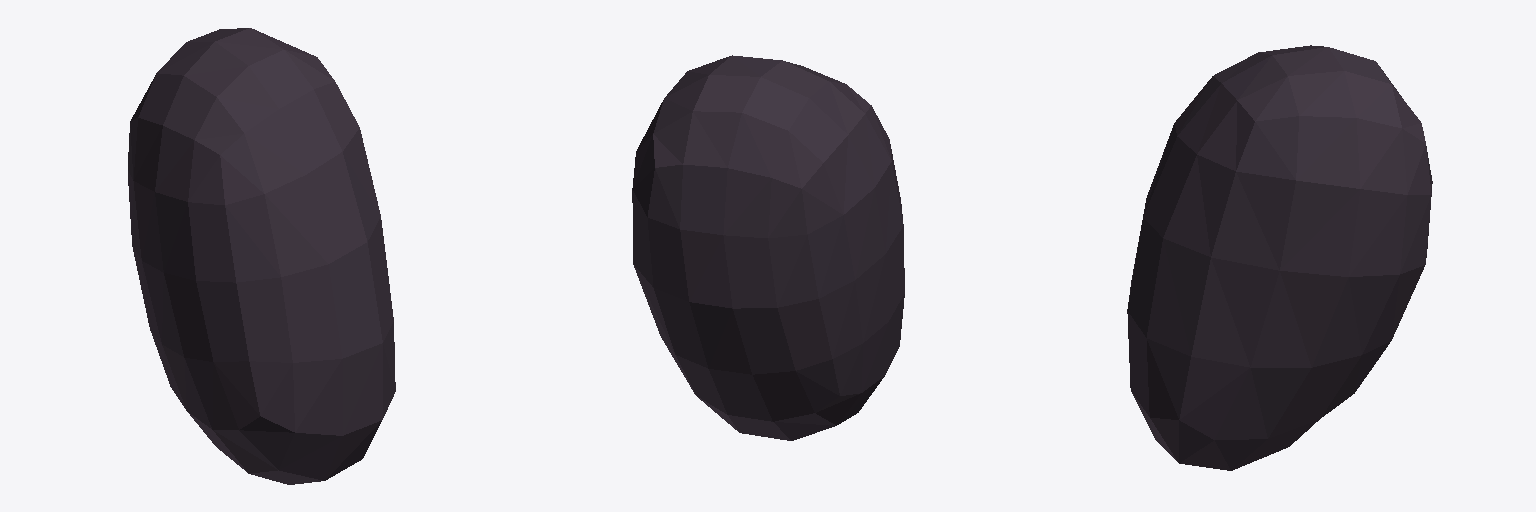
Rendered from Connective.bursa.Omentalis.097.obj.
3 views of the same model, side by side, from view 1: azimuth 30°, elevation 25°; view 2: azimuth 150°, elevation 25°; view 3: azimuth 270°, elevation 25° (orthographic).
Visible parts, largest first — view 1: Connective:bursa:Omentalis.097_bursa.011; view 2: Connective:bursa:Omentalis.097_bursa.011; view 3: Connective:bursa:Omentalis.097_bursa.011.
Boxes of the visible parts, x1=… form: Connective:bursa:Omentalis.097_bursa.011: x1=128, y1=28, x2=395, y2=484; Connective:bursa:Omentalis.097_bursa.011: x1=632, y1=55, x2=904, y2=440; Connective:bursa:Omentalis.097_bursa.011: x1=1127, y1=45, x2=1432, y2=470.
Bounding box in the file's own units: 0.0194 × 0.0356 × 0.0245.